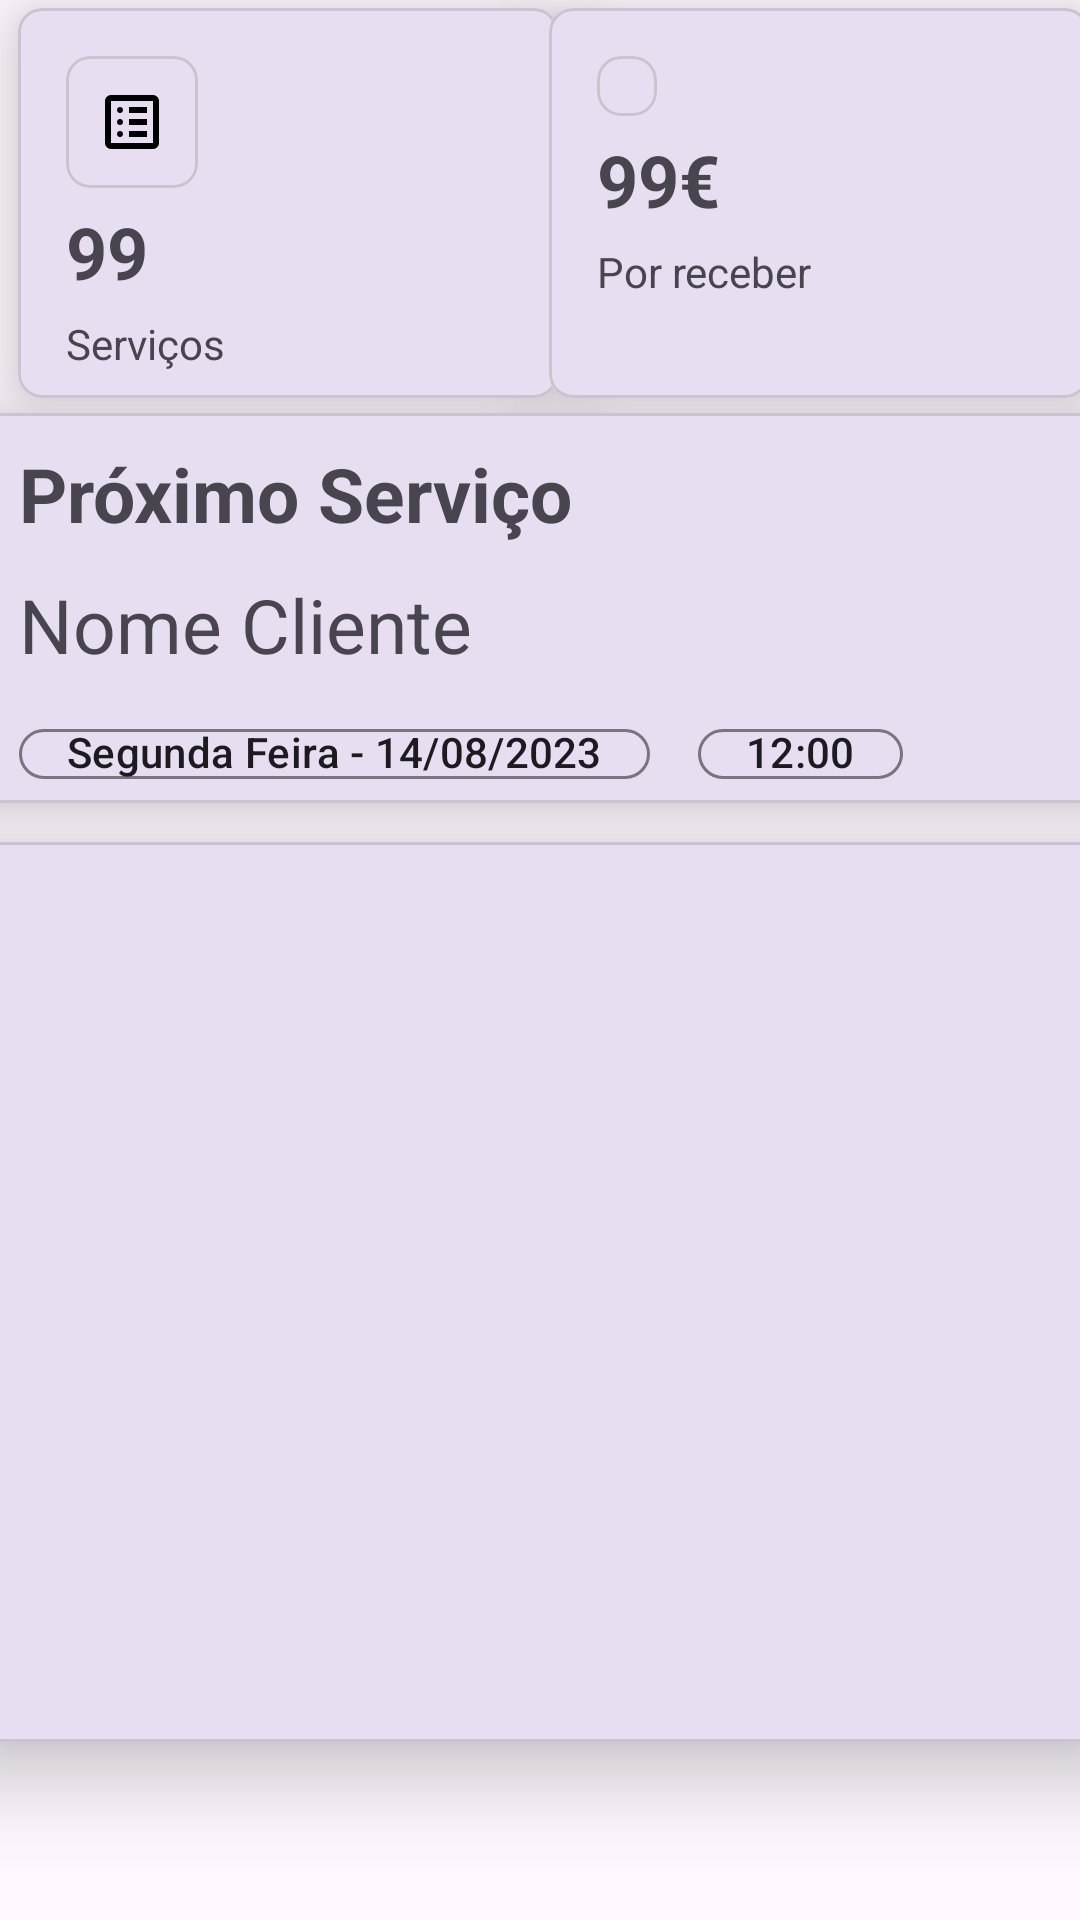

Icon click points for this 1080×1920 phone screenshot, format [x,y]:
list: [132,122]
